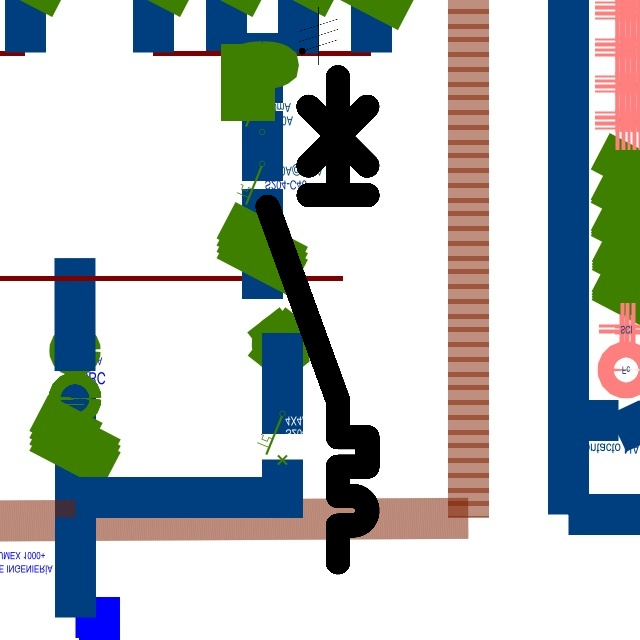interruptor_termomagnetico: (255, 64, 380, 574)
